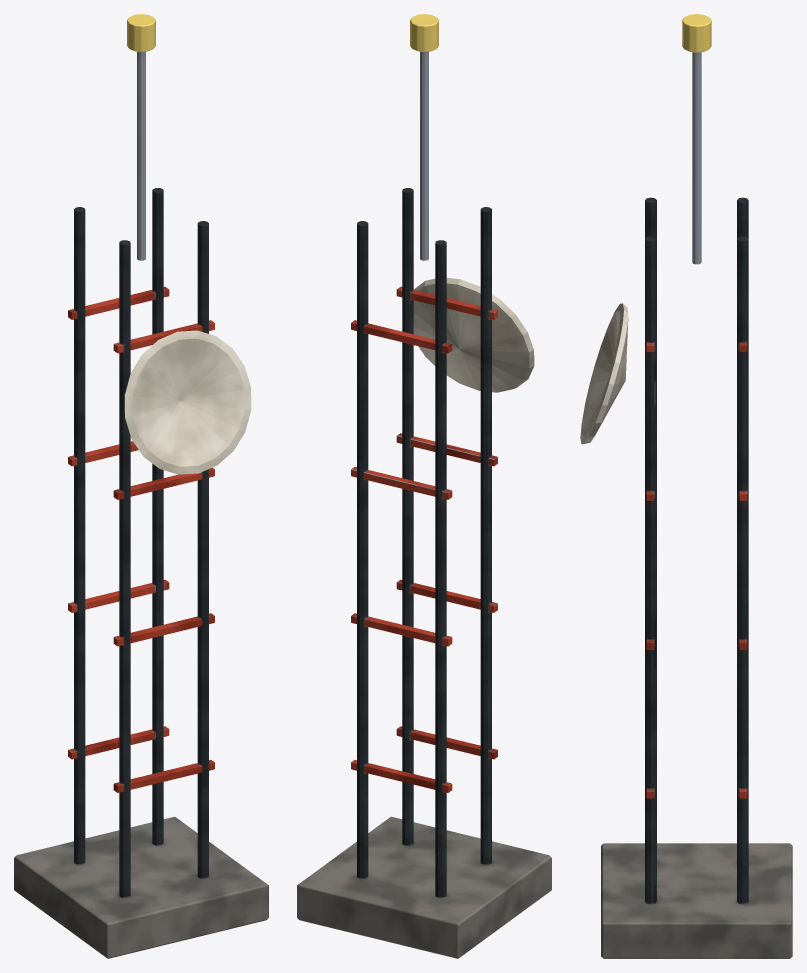
Rendered from radio_antenna_mast.glb.
The picture shows the model from 3 angles, left to right: view 1: azimuth 30°, elevation 25°; view 2: azimuth 150°, elevation 25°; view 3: azimuth 270°, elevation 25°; orthographic projection.
Visible parts, largest first — view 1: RadioAntennaMast; view 2: RadioAntennaMast; view 3: RadioAntennaMast.
Part boxes in pixels (left/top/right/bottom): RadioAntennaMast: left=14, top=14, right=268, bottom=958; RadioAntennaMast: left=297, top=14, right=551, bottom=958; RadioAntennaMast: left=580, top=14, right=792, bottom=958.
Bounding box in the file's own units: 1.4 × 7.26 × 1.55.
1 material, 1 textured.
